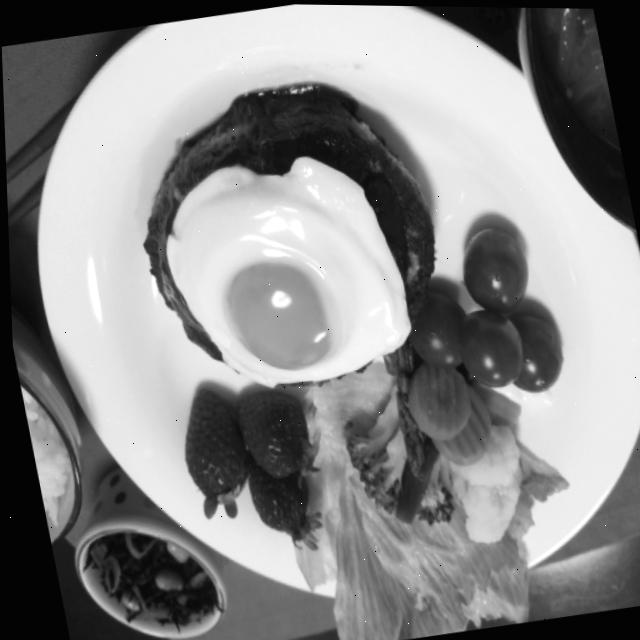鸡蛋料理: (117, 115, 440, 420)
